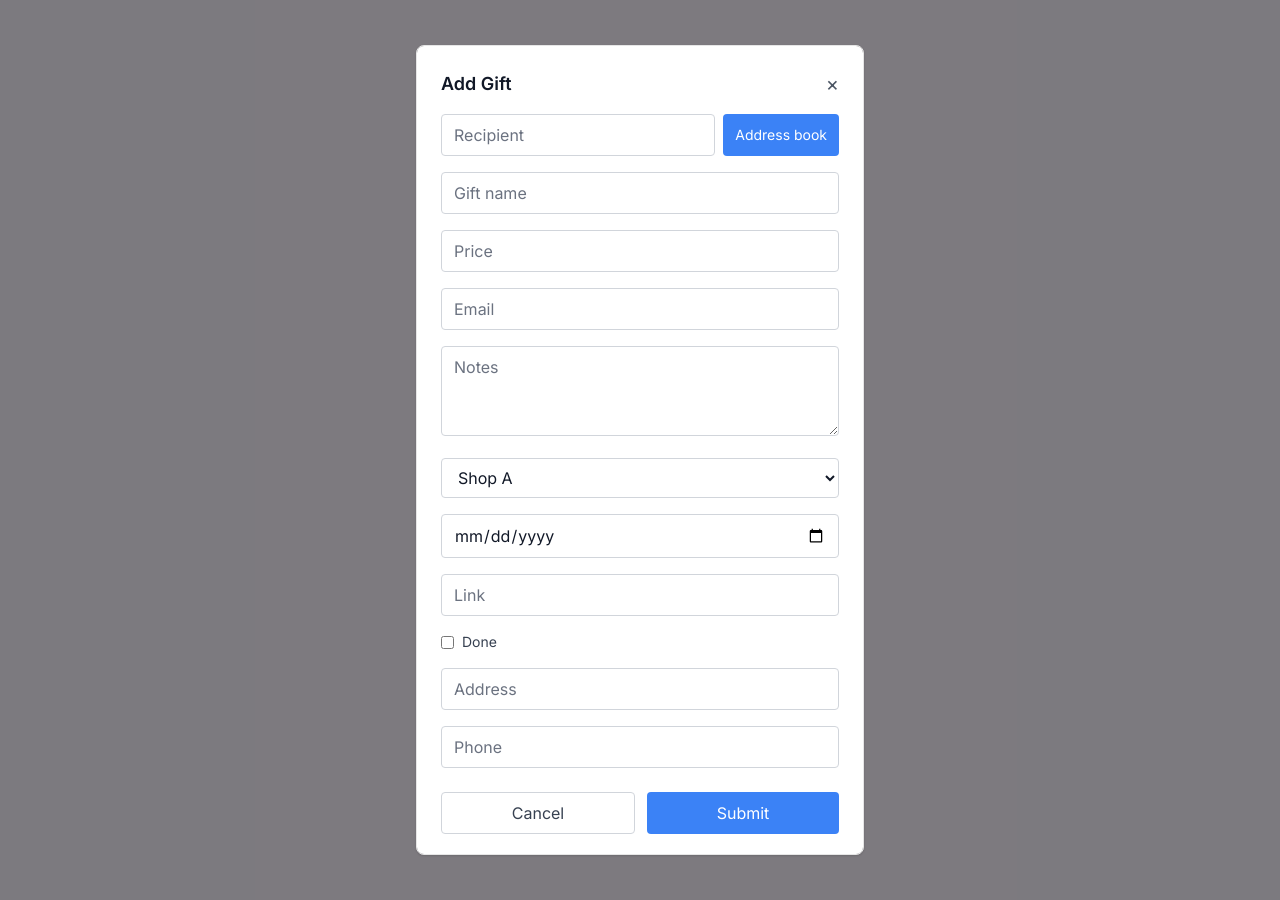
Scenario: FormModal › address book › picking a contact on a gift form fills the recipient, email, phone and address
This screenshot has width=1280, height=900.
Click the button "Address book" at (781, 135), box [723,114,839,156]
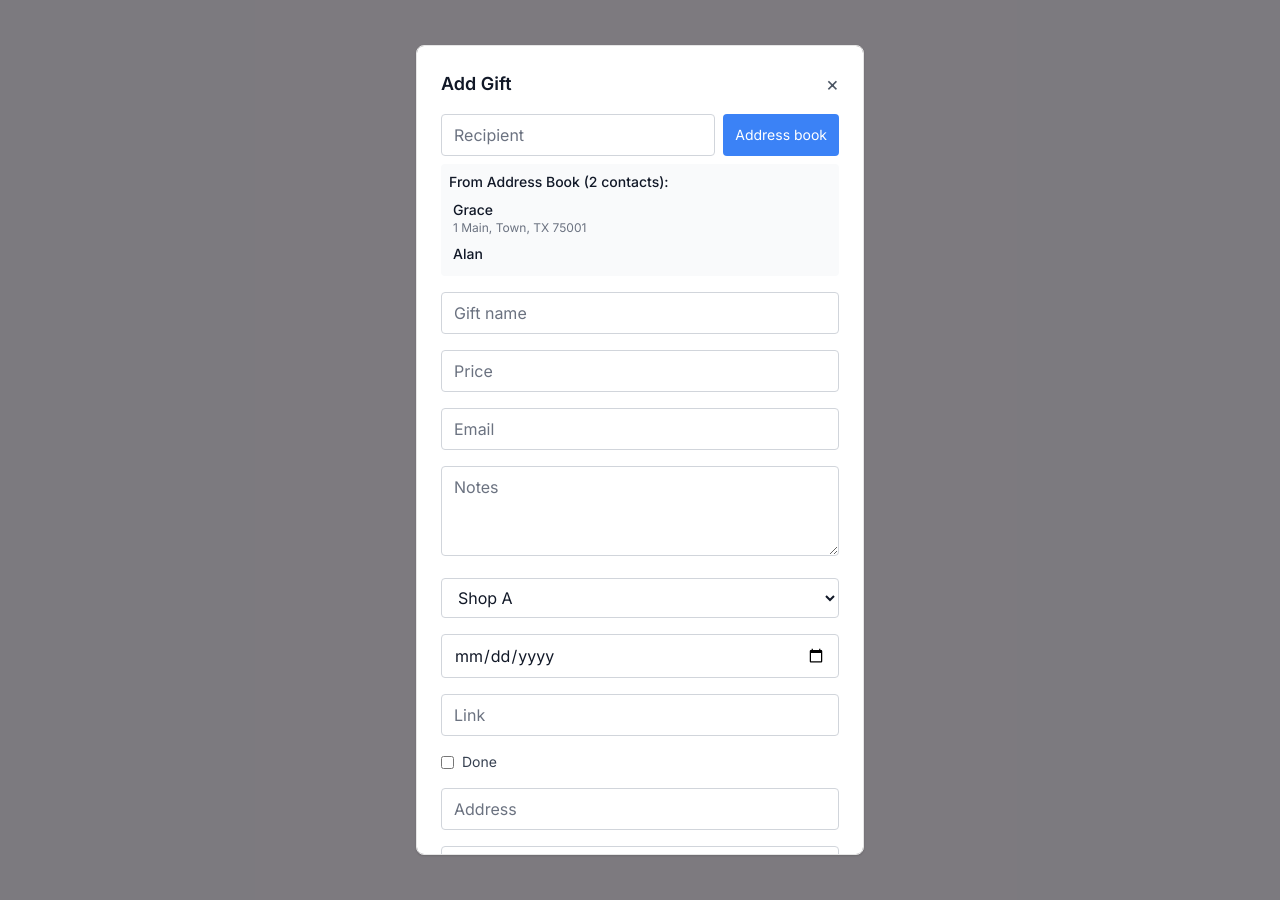
Click the text "Grace" at (473, 210), box [453,201,493,218]
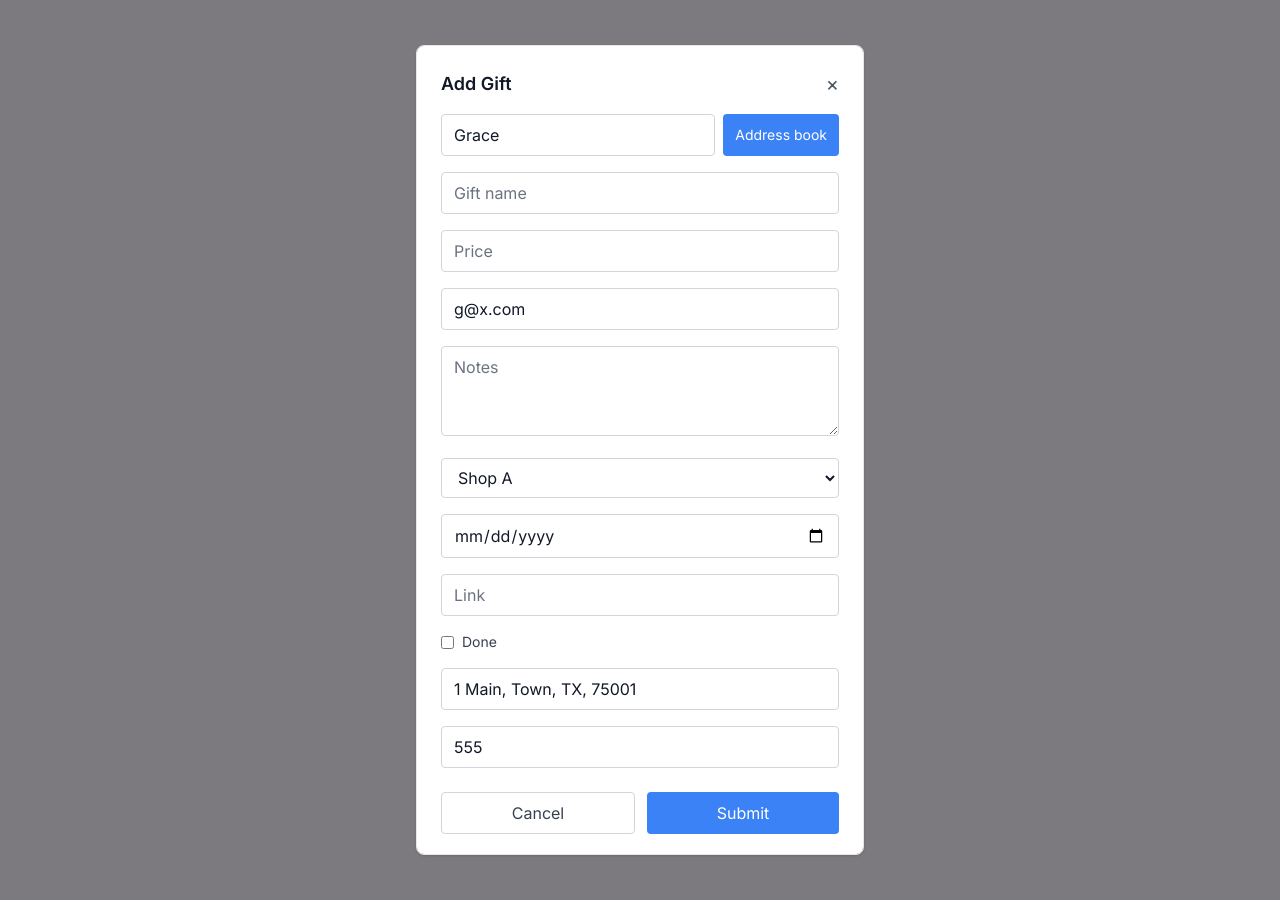
Result: the 1st field with placeholder "Recipient" holds "Grace" at [441,114,715,156]
Result: the 2nd field with placeholder "Email" holds "g@x.com" at [441,288,839,330]
Result: the 4th field with placeholder "Phone" holds "555" at [441,726,839,768]
